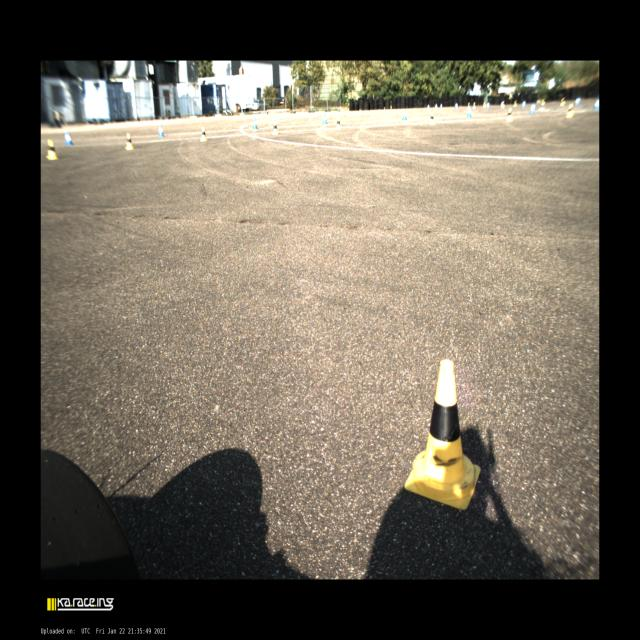blue_cone: (64, 131, 74, 145), (158, 124, 164, 137), (252, 118, 258, 129), (322, 113, 328, 124), (402, 110, 407, 120)
yellow_cone: (404, 360, 480, 510), (46, 140, 58, 160), (125, 133, 134, 150), (565, 103, 574, 118), (200, 127, 208, 141), (506, 108, 513, 122), (272, 121, 278, 135), (428, 112, 434, 125), (336, 116, 341, 130)
